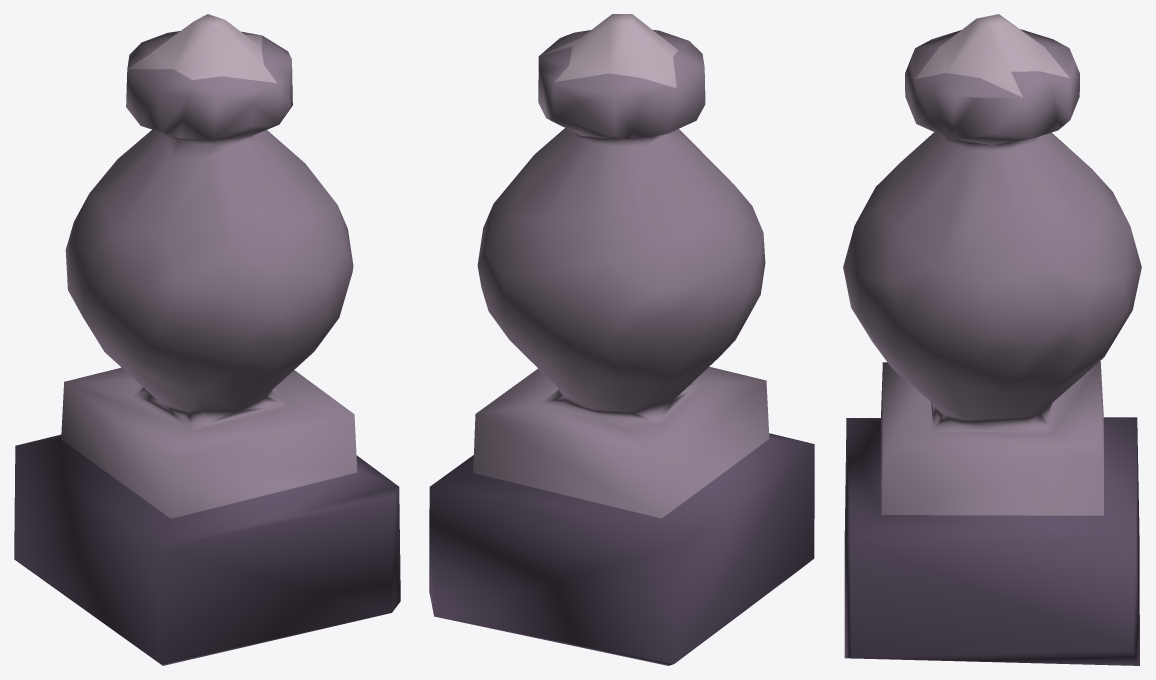
Rendered from urn.glb.
The picture shows the model from 3 angles, left to right: view 1: azimuth 30°, elevation 25°; view 2: azimuth 150°, elevation 25°; view 3: azimuth 270°, elevation 25°; orthographic projection. The views are drawn at different scales.
Visible parts, largest first — view 1: urn; view 2: urn; view 3: urn.
Boxes of the visible parts, box(x1,y1,x2,y2) form: urn: box(14, 14, 400, 665); urn: box(429, 14, 814, 665); urn: box(843, 14, 1141, 665).
Size of the model in its own units: 0.485 by 1.05 by 0.485.
